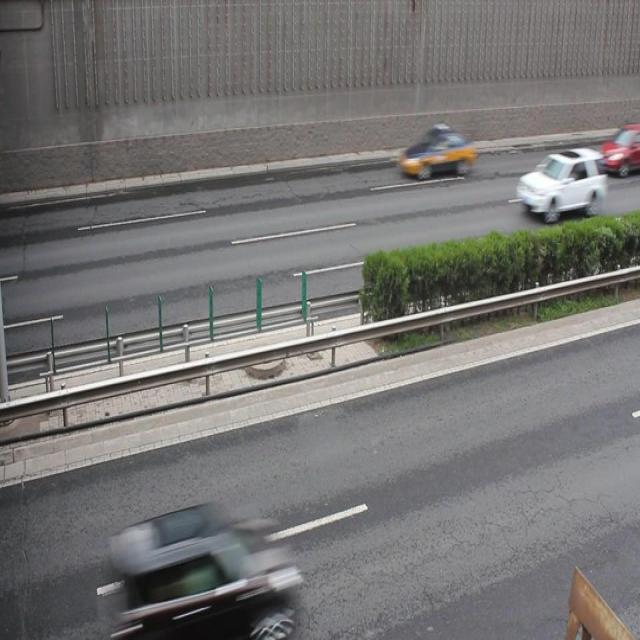car: (112, 505, 293, 640), (515, 147, 600, 222), (396, 126, 474, 181)
